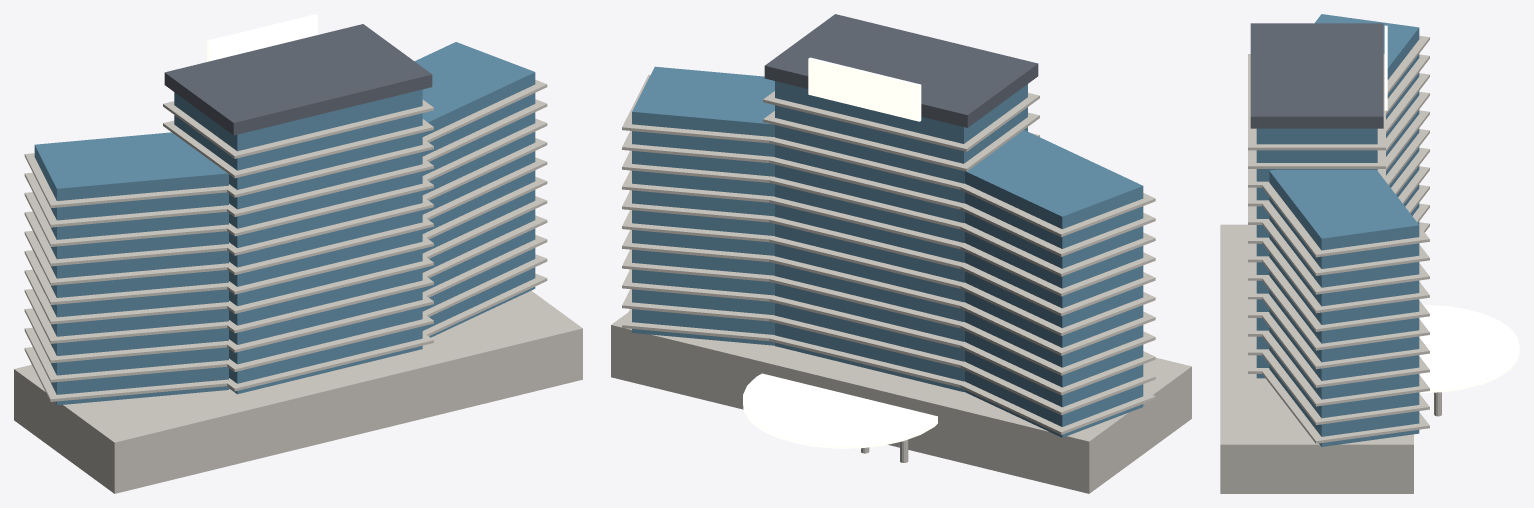
File: Enjoy_ResortCasino.fbx
3 renders of one model, left to right at view 1: azimuth 30°, elevation 25°; view 2: azimuth 150°, elevation 25°; view 3: azimuth 270°, elevation 25°, orthographic. The views are drawn at different scales.
Visible parts, largest first — view 1: Cube, Cube.001, Cube.015, Cube.027, Cube.039, Enjoy_SignBoard, Cube.013, Cube.014, Cube.026, Cube.017, Cube.018, Cube.025 (+29 smaller); view 2: Cube.001, Cube.015, Cube, Cube.027, Cube.039, Cylinder, Enjoy_SignBoard, Cube.014, Cube.013, Cube.018, Cube.017, Cube.016 (+30 smaller); view 3: Cube.027, Cube, Cube.039, Cylinder, Cube.001, Cube.015, Cube.014, Cube.031, Cube.032, Cube.029, Cube.036, Cube.034 (+16 smaller).
Boxes of the visible parts, x1,y1,x2,y2 form: Cube: (14,290,582,493); Cube.001: (174,89,422,394); Cube.015: (34,132,228,405); Cube.027: (415,42,535,337); Cube.039: (164,24,432,135); Enjoy_SignBoard: (207,14,317,61); Cube.013: (163,119,433,178); Cube.014: (163,99,433,158); Cube.026: (24,153,235,208); Cube.017: (24,327,235,382); Cube.018: (24,308,235,363); Cube.025: (24,172,234,227); Cube.001: (775,81,1027,391); Cube.015: (964,130,1143,437); Cube: (611,312,1191,493); Cube.027: (632,66,774,345); Cube.039: (764,14,1038,127); Cylinder: (743,373,937,448); Enjoy_SignBoard: (808,57,921,121); Cube.014: (763,91,1039,151); Cube.013: (763,111,1039,171); Cube.018: (942,336,1155,395); Cube.017: (944,357,1155,415); Cube.016: (944,377,1155,434); Cube.027: (1269,169,1419,446); Cube: (1220,224,1413,493); Cube.039: (1250,23,1383,128); Cylinder: (1419,304,1519,392); Cube.001: (1256,128,1377,378); Cube.015: (1315,14,1419,224); Cube.014: (1248,54,1385,150); Cube.031: (1260,312,1429,387); Cube.032: (1260,293,1429,369); Cube.029: (1260,349,1429,424); Cube.036: (1260,219,1429,294); Cube.034: (1260,256,1429,331).
Bounding box in the file's own units: 91.22 × 60.7 × 49.5.
